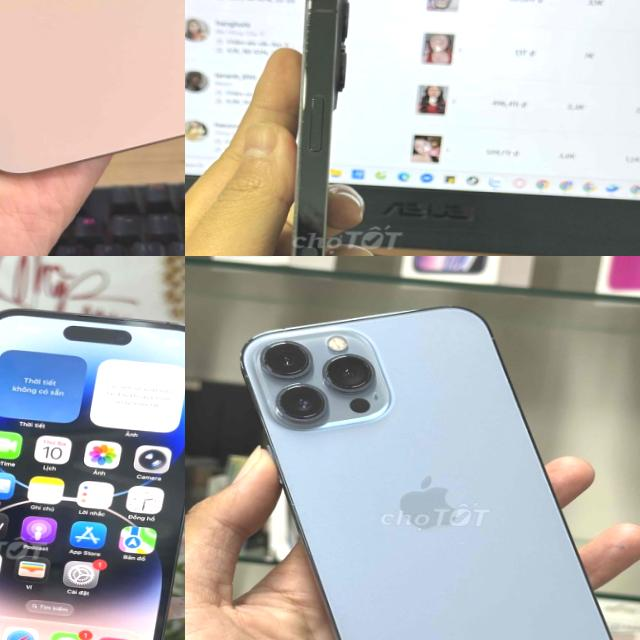gen_12_13: (234, 300, 628, 640), (247, 0, 359, 256)
gen_14: (0, 307, 185, 640)
gen_16: (0, 0, 185, 172)
